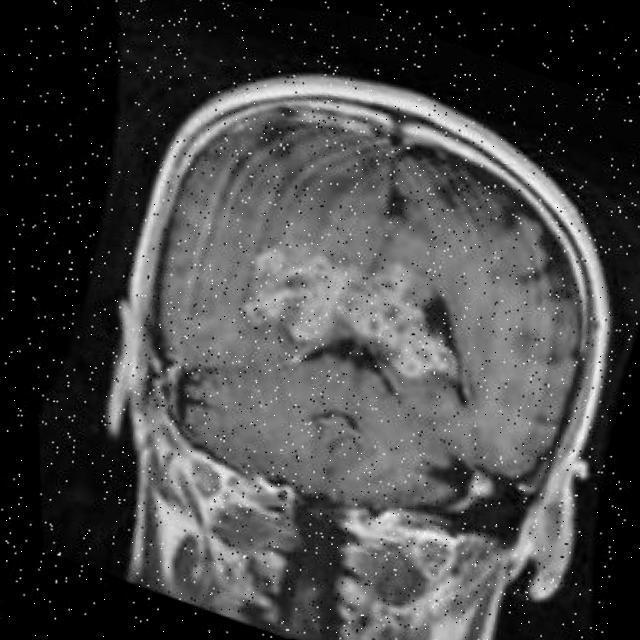EMCI: (192, 215, 354, 384), (338, 278, 474, 420)
